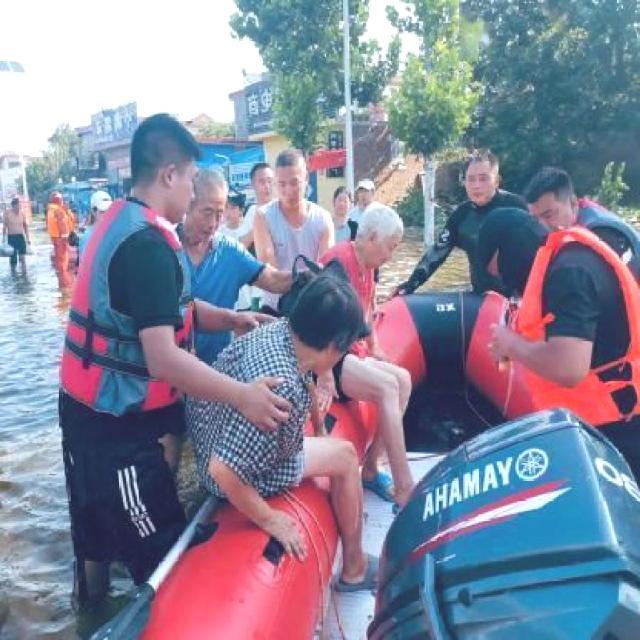face_nomask: (183, 188, 228, 249)
hand_noglove: (238, 375, 292, 434), (265, 508, 306, 563), (232, 308, 278, 343), (484, 322, 516, 366), (370, 345, 396, 369), (386, 283, 406, 302), (26, 239, 32, 246)
head_nohelmet: (285, 285, 360, 352), (126, 112, 202, 163), (523, 162, 575, 206), (365, 201, 406, 237), (462, 148, 511, 174), (191, 168, 237, 194), (246, 151, 274, 178), (272, 152, 302, 174), (331, 184, 355, 202)
person: (52, 112, 242, 590), (169, 288, 366, 549), (451, 206, 634, 432), (254, 130, 343, 296)
